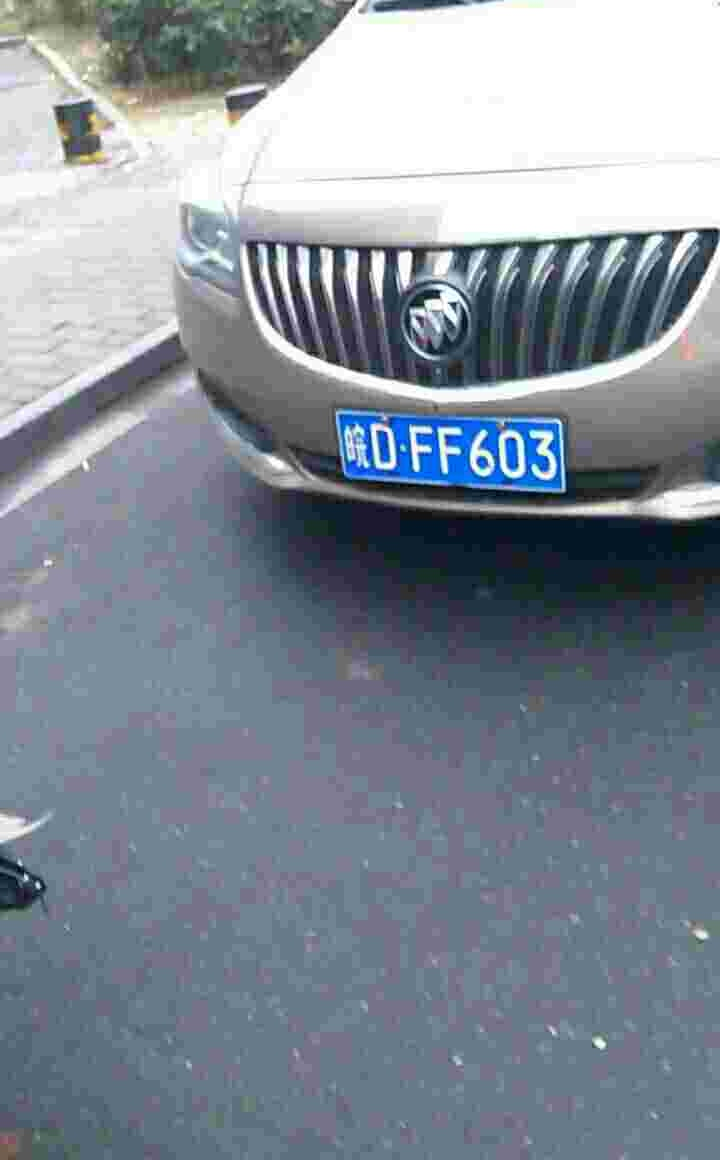plate: (332, 405, 569, 496)
